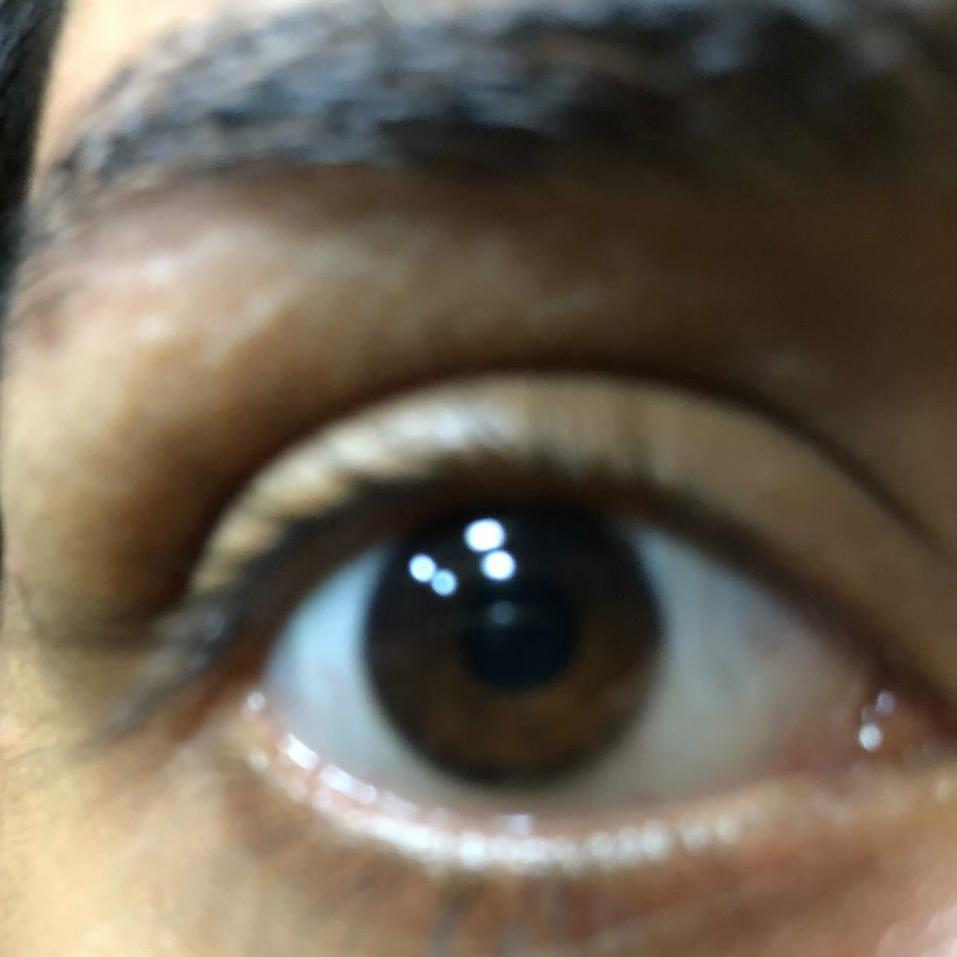open: (11, 308, 957, 957)
